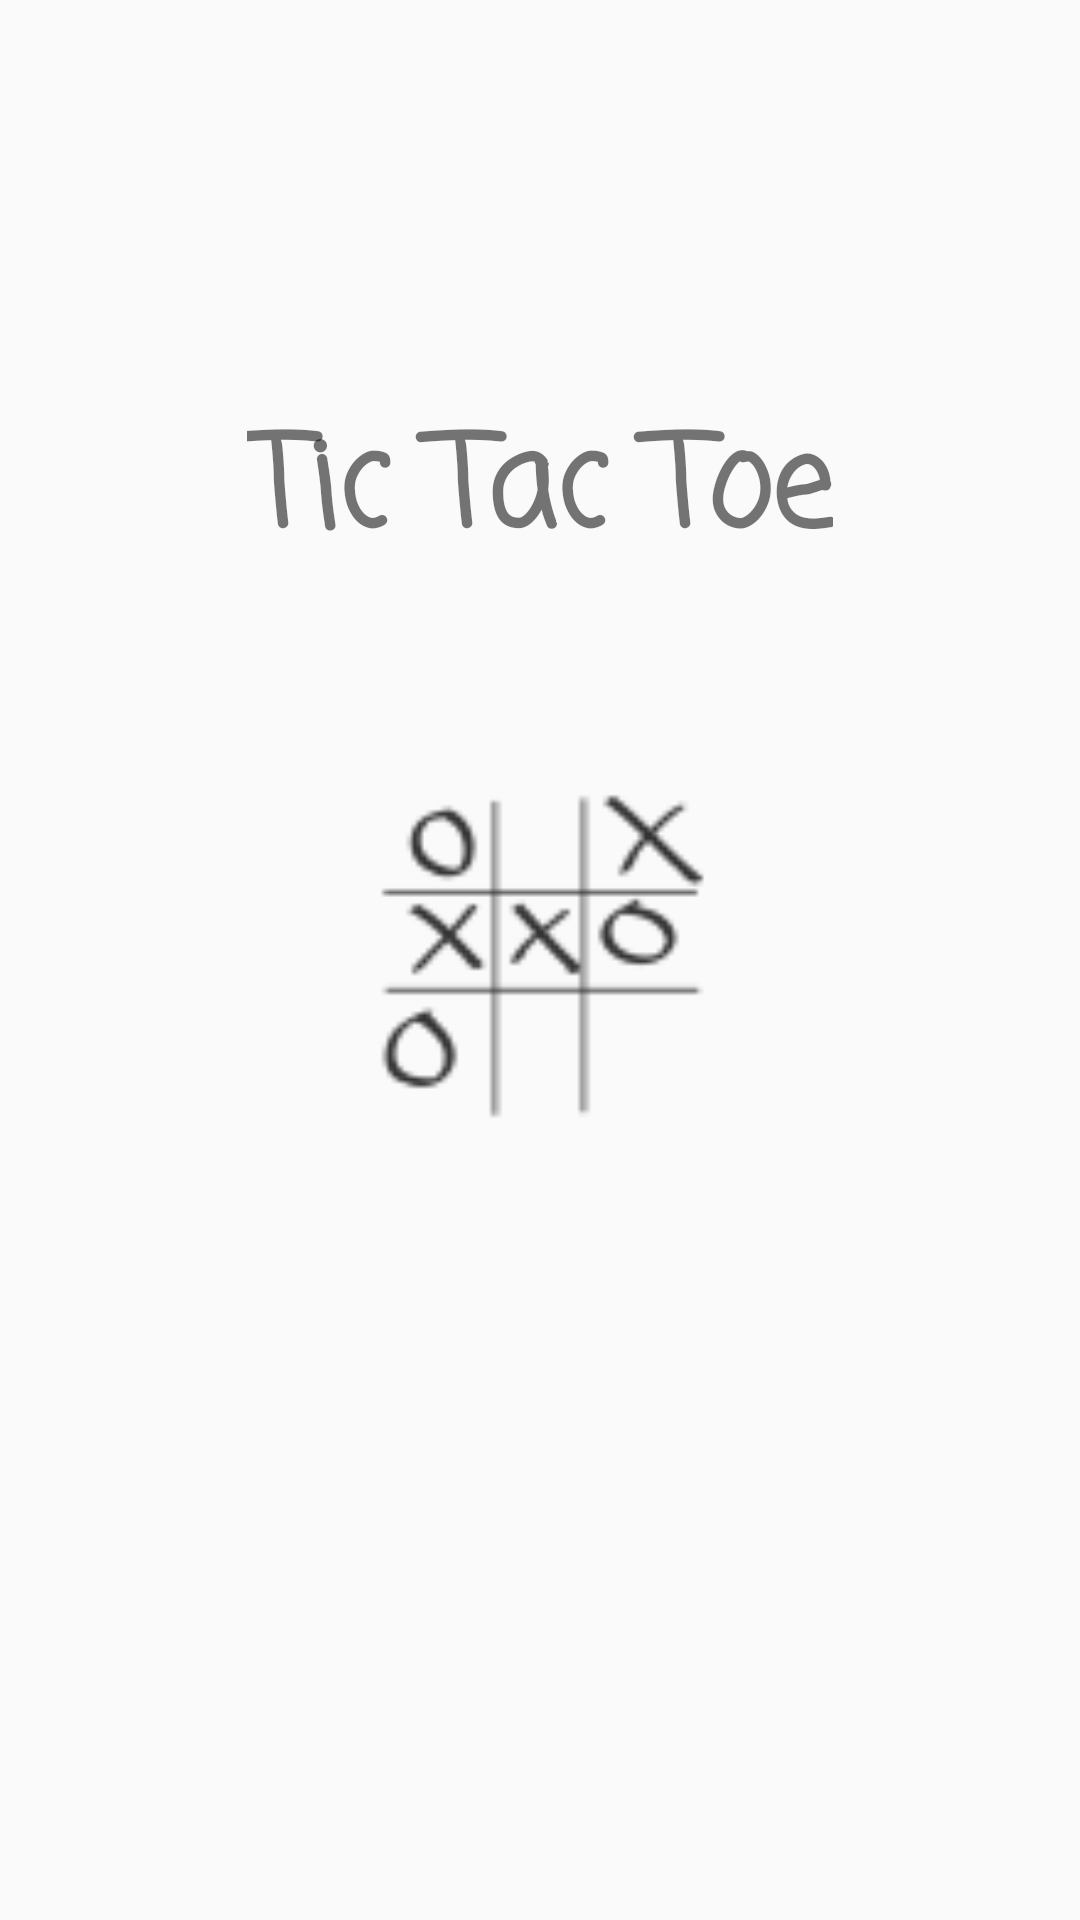

Named icons in this screenshot (1080*1920) and their bounding boxes, (x1, y1, x2, y2):
Tic Tac Toe: (381, 795, 704, 1117)
